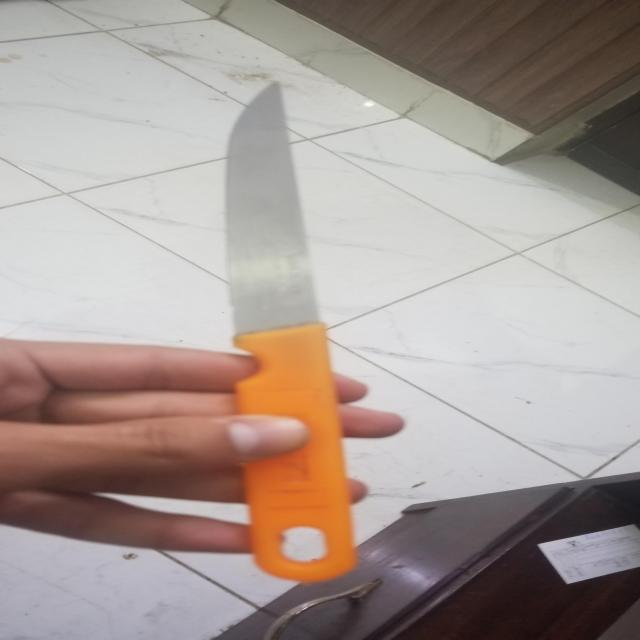faca: (228, 82, 362, 581)
